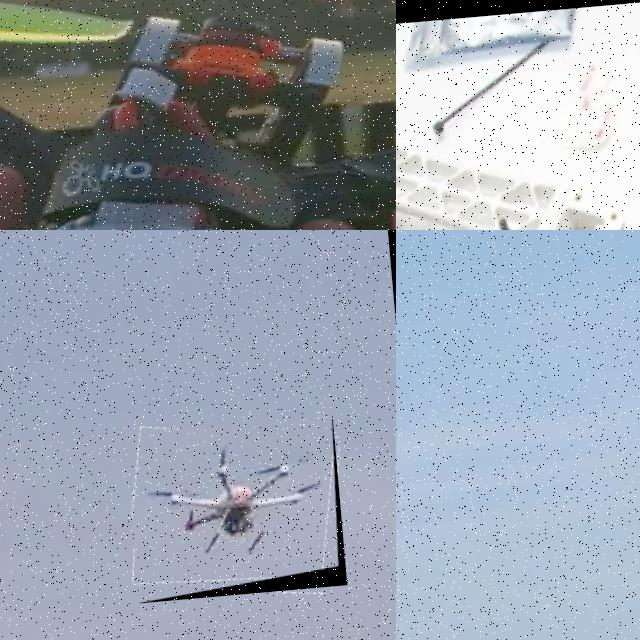drone: (0, 0, 396, 230), (396, 0, 640, 230), (124, 416, 347, 604)
